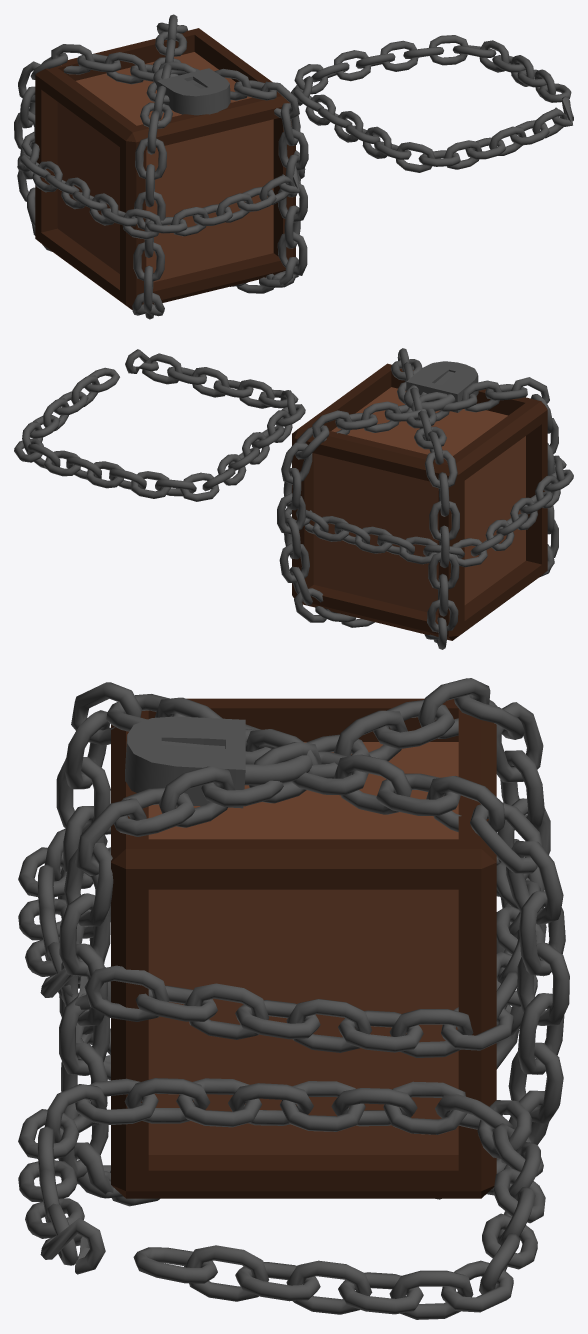
The picture shows the model from 3 angles, top to bottom: view 1: azimuth 30°, elevation 25°; view 2: azimuth 150°, elevation 25°; view 3: azimuth 270°, elevation 25°; orthographic projection. The views are drawn at different scales.
Visible parts, largest first — view 1: Cube.001, Torus.001, Torus.002, Cube; view 2: Cube.001, Torus.001, Torus.002, Cube; view 3: Cube.001, Torus.001, Torus.002, Cube.
Boxes of the visible parts, x1,y1,x2,y2 form: Cube.001: (35, 28, 295, 309); Torus.001: (14, 14, 308, 319); Torus.002: (291, 35, 573, 172); Cube: (153, 68, 230, 115); Cube.001: (292, 363, 547, 640); Torus.001: (277, 348, 573, 649); Torus.002: (14, 349, 305, 501); Cube: (404, 361, 478, 412); Cube.001: (111, 698, 496, 1198); Torus.001: (18, 678, 569, 1206); Torus.002: (18, 1078, 545, 1319); Cube: (125, 716, 312, 808).
Bounding box in the file's own units: 574 × 251 × 286.
